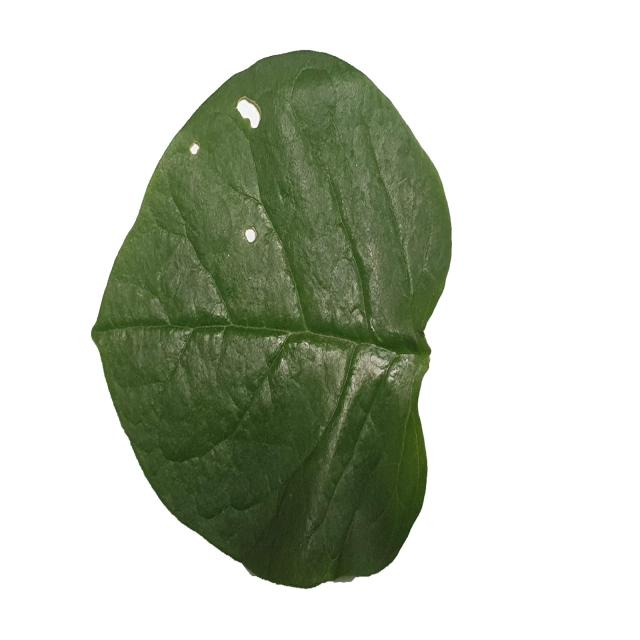Medicinal-Basale: (90, 47, 452, 585)
